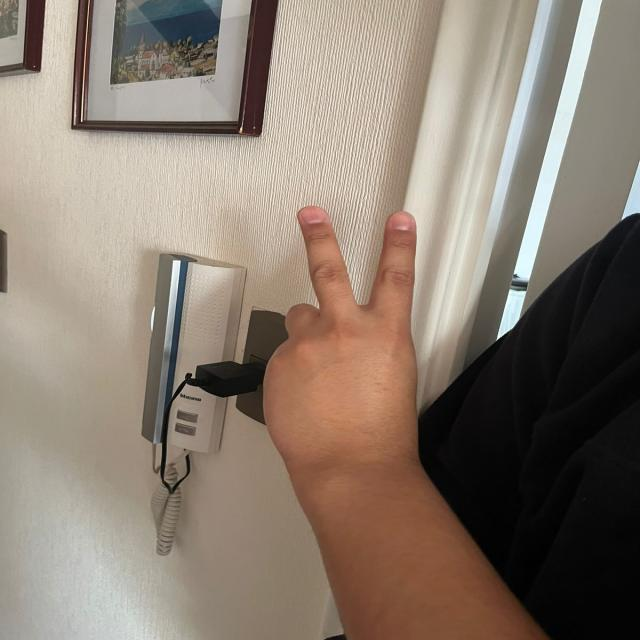V: (251, 197, 428, 465)
